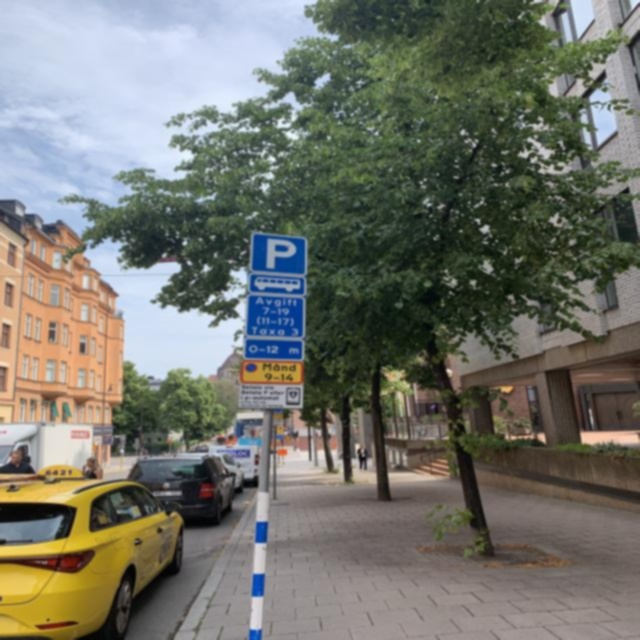P-skylt: (247, 229, 308, 274)
